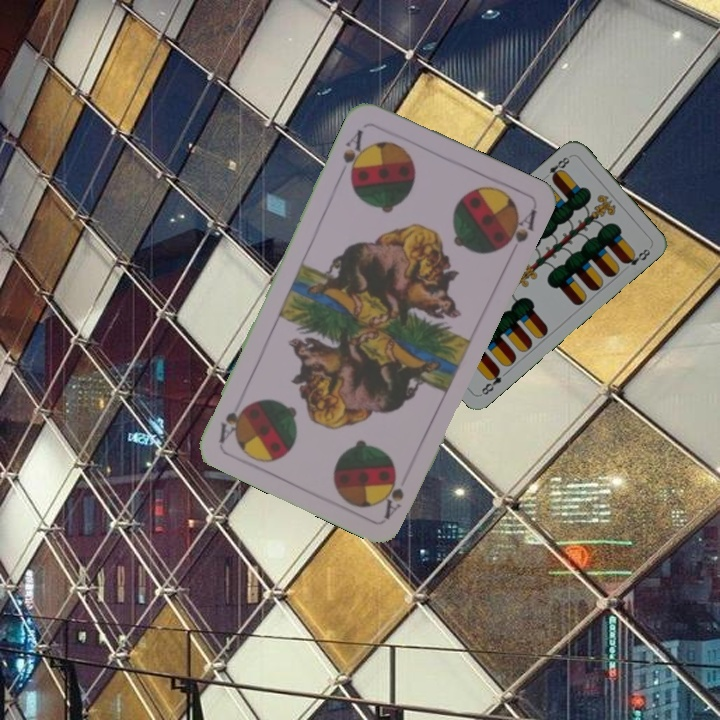E8: (540, 152, 574, 183), (477, 365, 504, 398)
SA: (338, 125, 369, 183), (377, 467, 407, 521)
